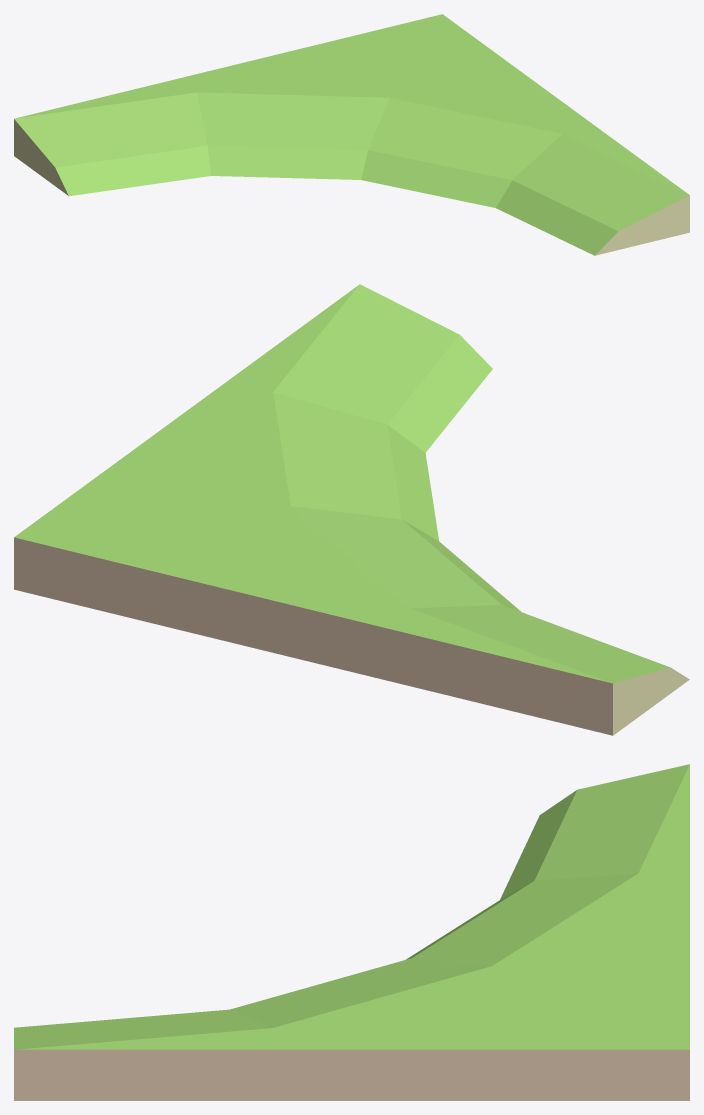
File: Grass_Carpet_Curve_Inner_3x3.glb
3 renders of one model, top to bottom at view 1: azimuth 30°, elevation 25°; view 2: azimuth 150°, elevation 25°; view 3: azimuth 270°, elevation 25°, orthographic. The views are drawn at different scales.
Visible parts, largest first — view 1: Grass_Carpet_Curve_Inner_3x3; view 2: Grass_Carpet_Curve_Inner_3x3; view 3: Grass_Carpet_Curve_Inner_3x3.
Part boxes in pixels (bbox=[...]): Grass_Carpet_Curve_Inner_3x3: bbox=[14, 14, 689, 255]; Grass_Carpet_Curve_Inner_3x3: bbox=[14, 284, 689, 735]; Grass_Carpet_Curve_Inner_3x3: bbox=[14, 764, 689, 1100].
Size of the model in its own units: 300 by 25 by 300.
